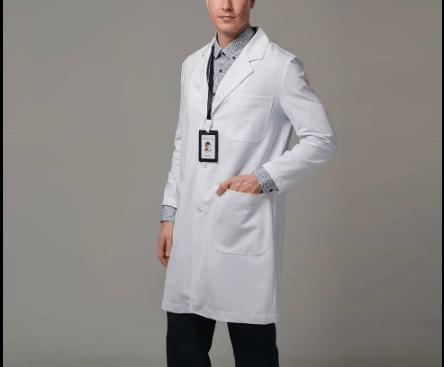lab_coat: (157, 24, 338, 327)
